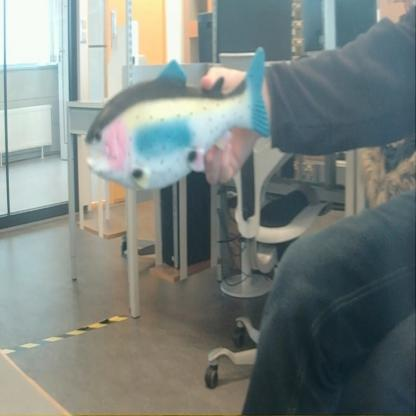rubberfish: (83, 38, 274, 194)
